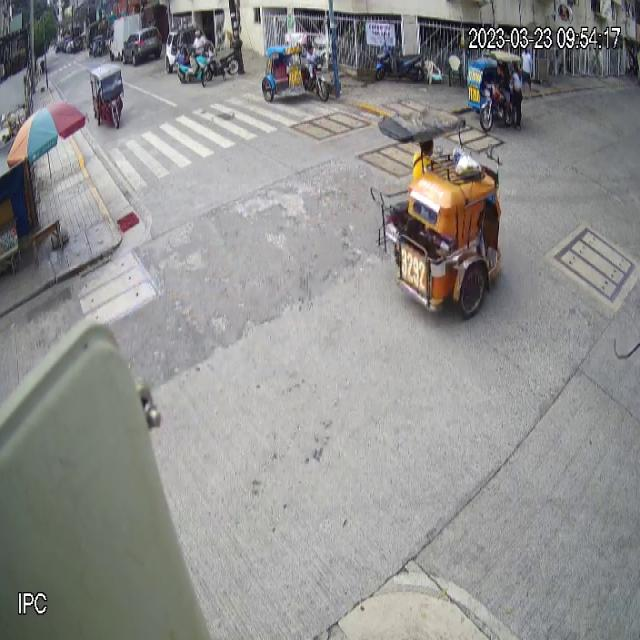Tricycle: (369, 107, 505, 320), (262, 32, 330, 103), (467, 50, 521, 130)
